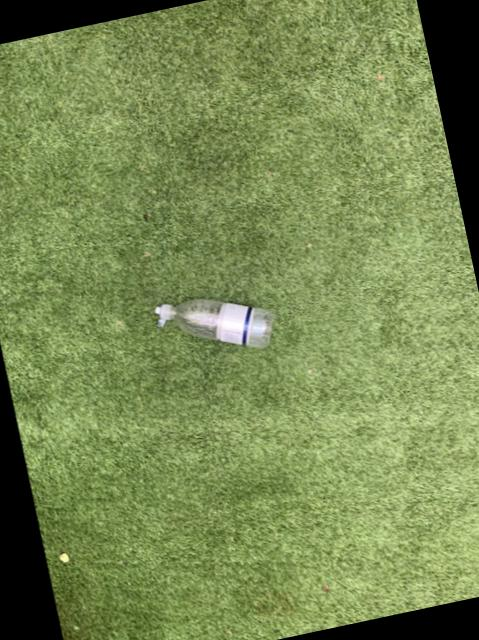plastic: (155, 300, 275, 348)
